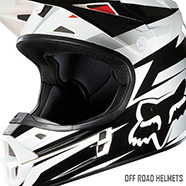with_helmet: (1, 1, 186, 178)
